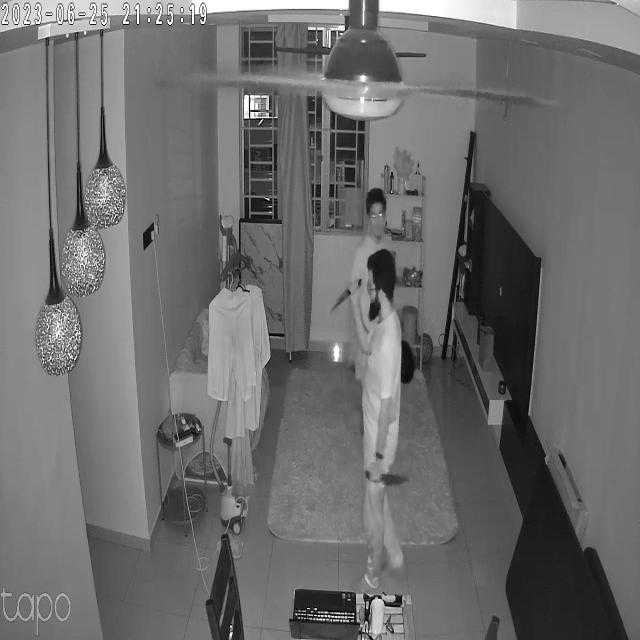Knife: (364, 459, 422, 494), (330, 271, 366, 319)
